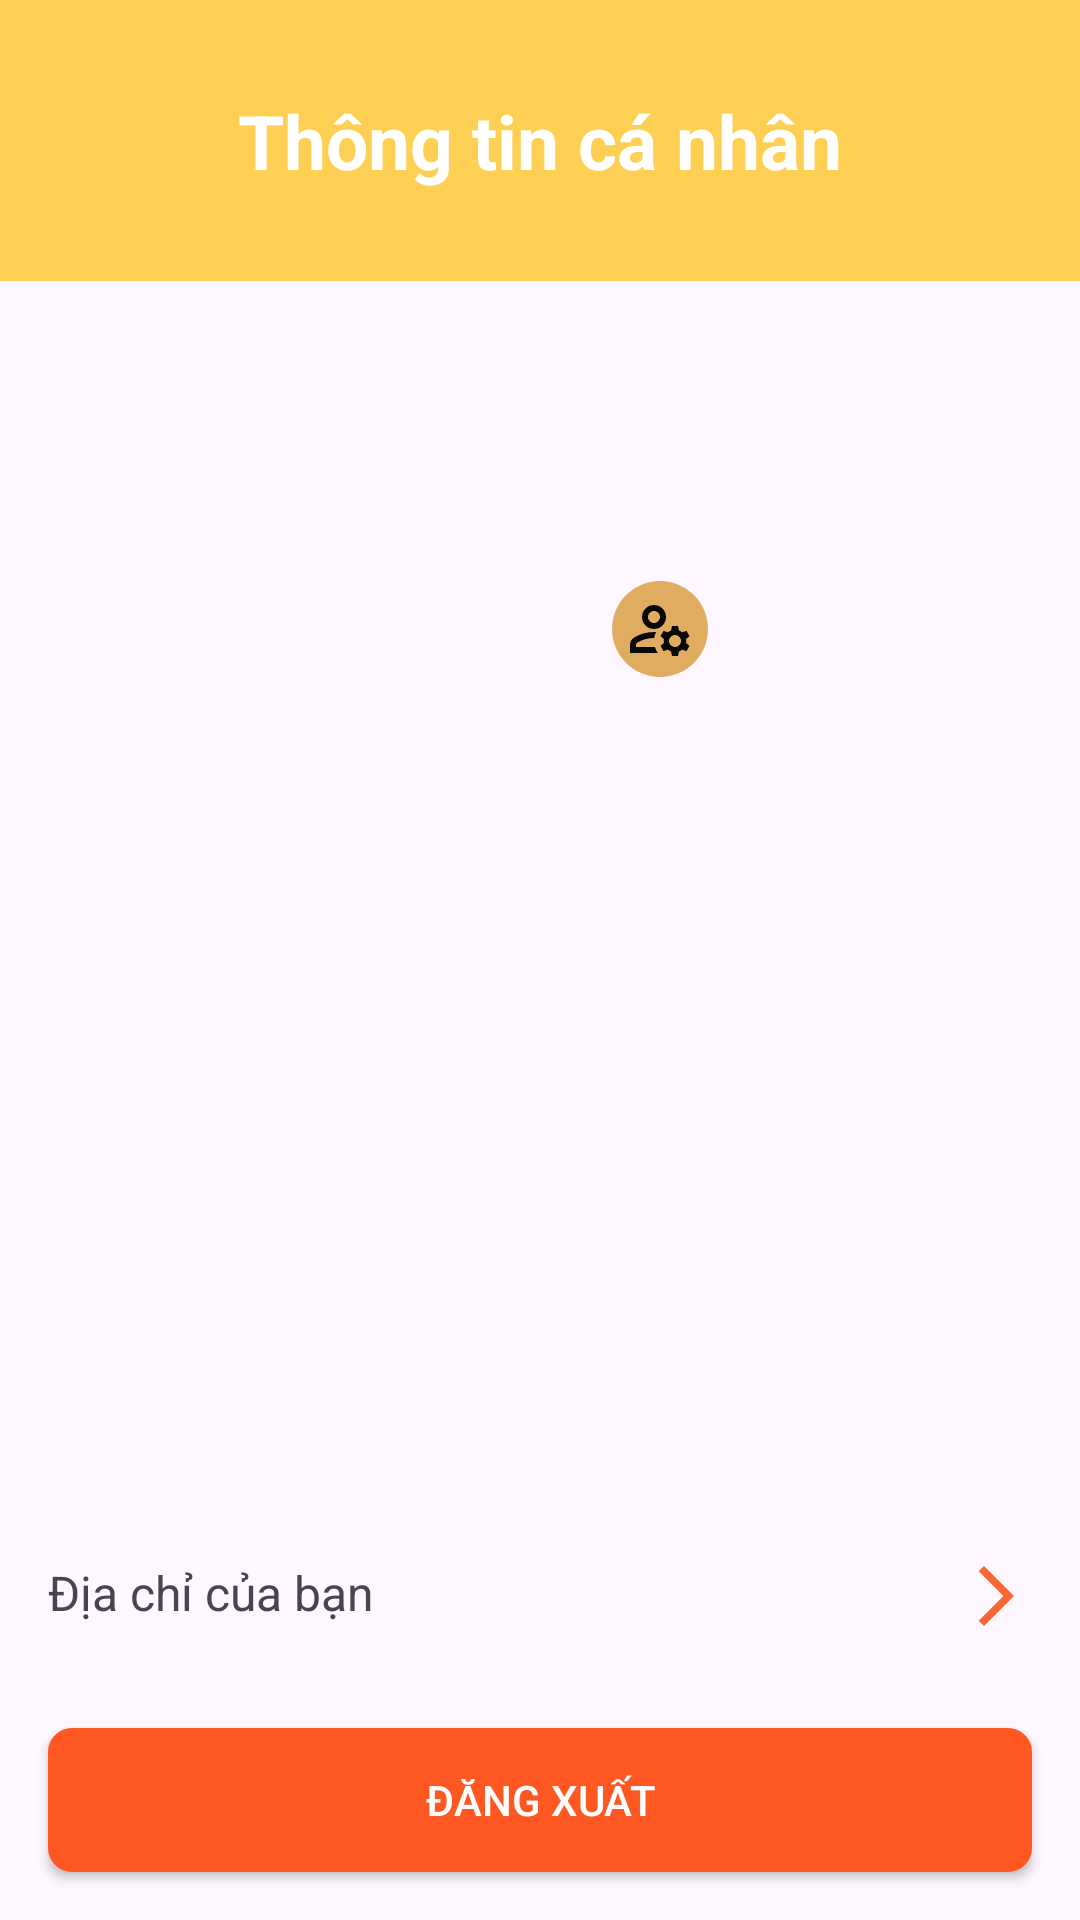

Named icons in this screenshot (1080 × 1920) and their bounding boxes, bbox(x1, y1, x2, y2):
Change Avatar: bbox(612, 581, 708, 677)
